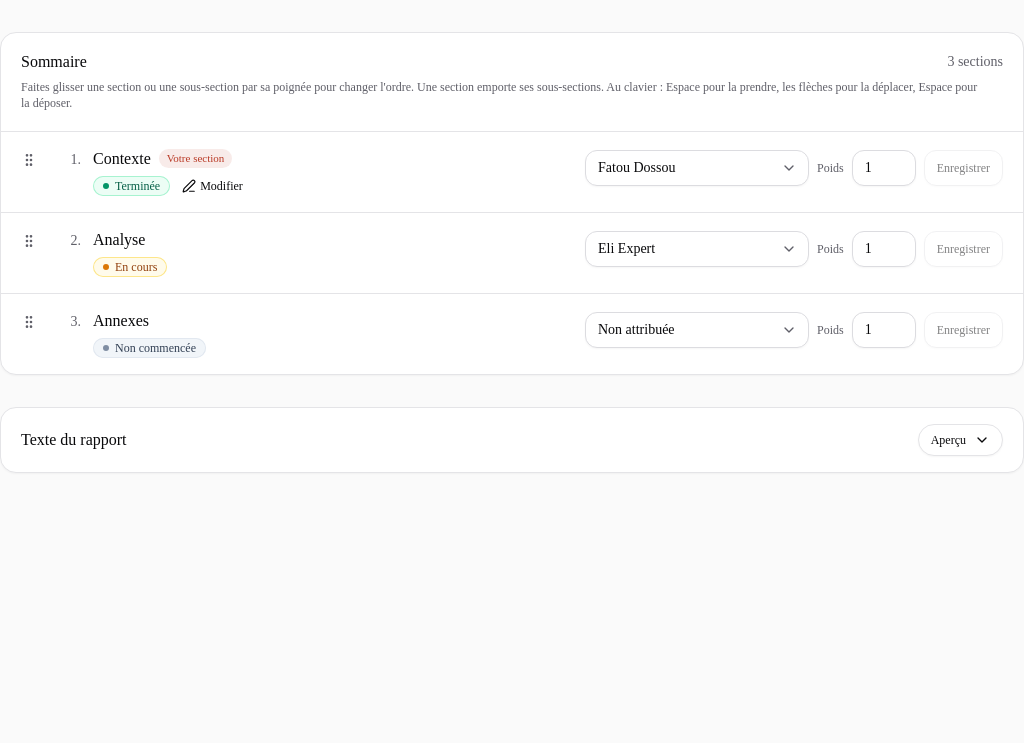
Scenario: MasterReport for a manager › saves the new full order after a keyboard move
Click the button with aria-label "Aperçu du texte du rapport" at (960, 440), box [918,424,1003,456]
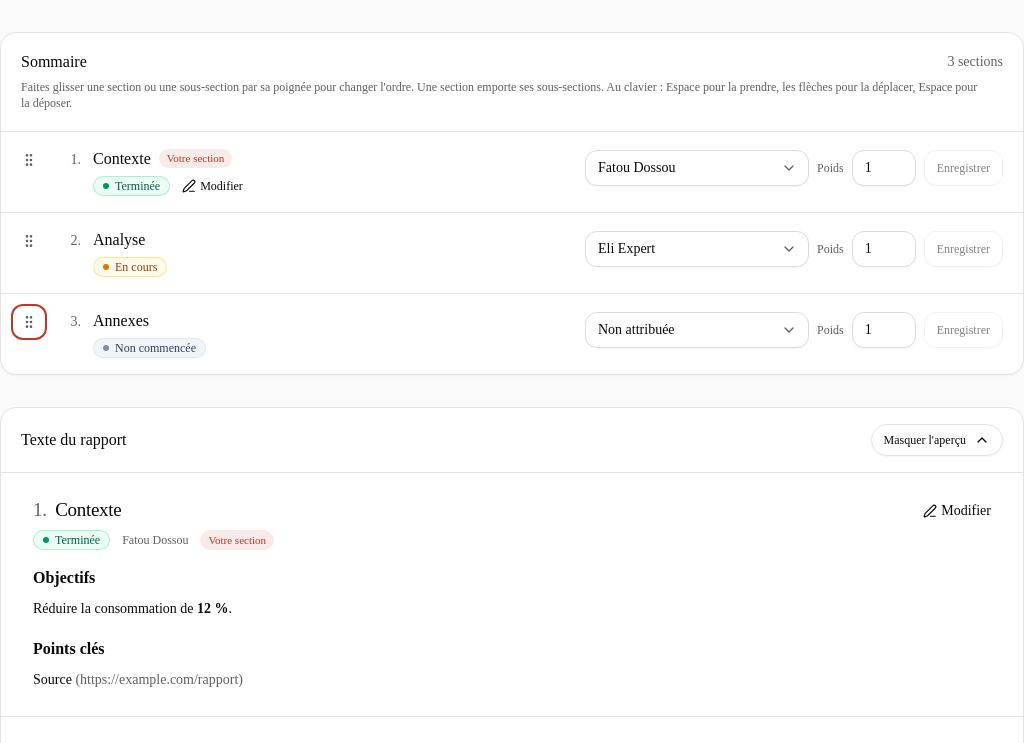
Press Space in the button named "Déplacer la section Annexes", box [13,306,45,338]
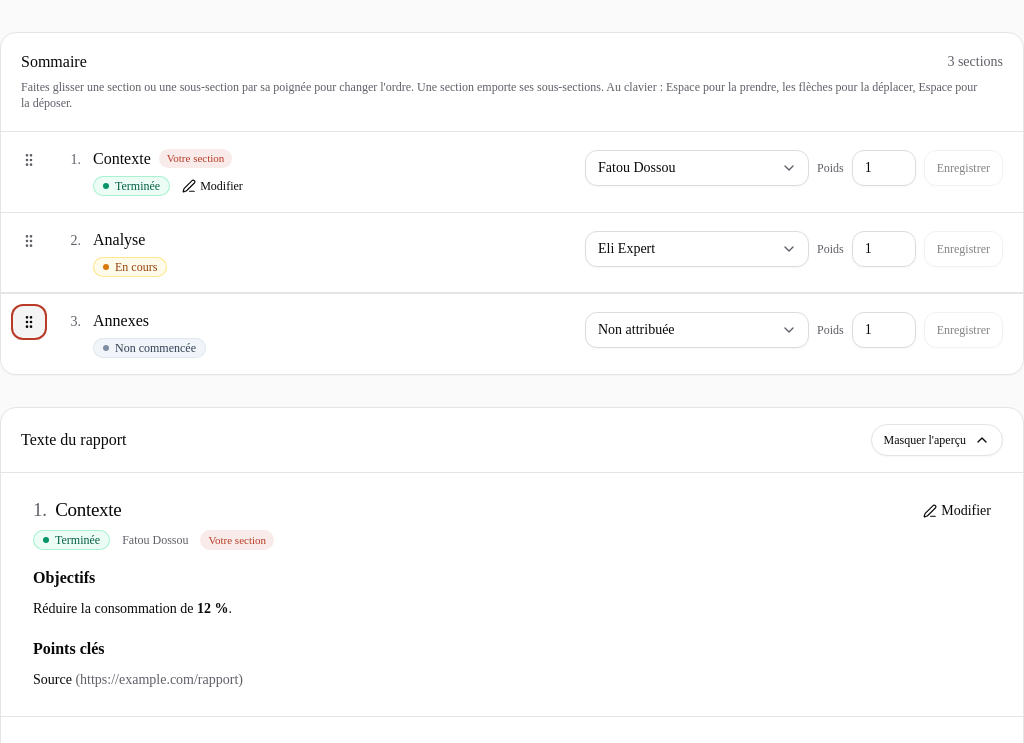
Press ArrowUp
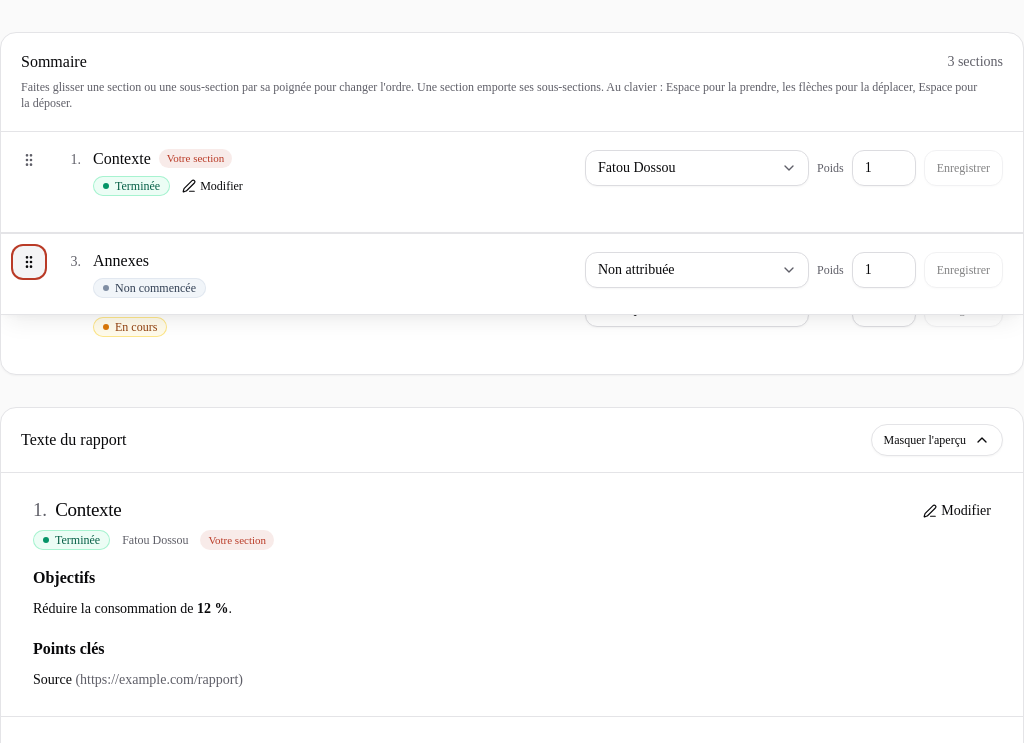
Press ArrowUp
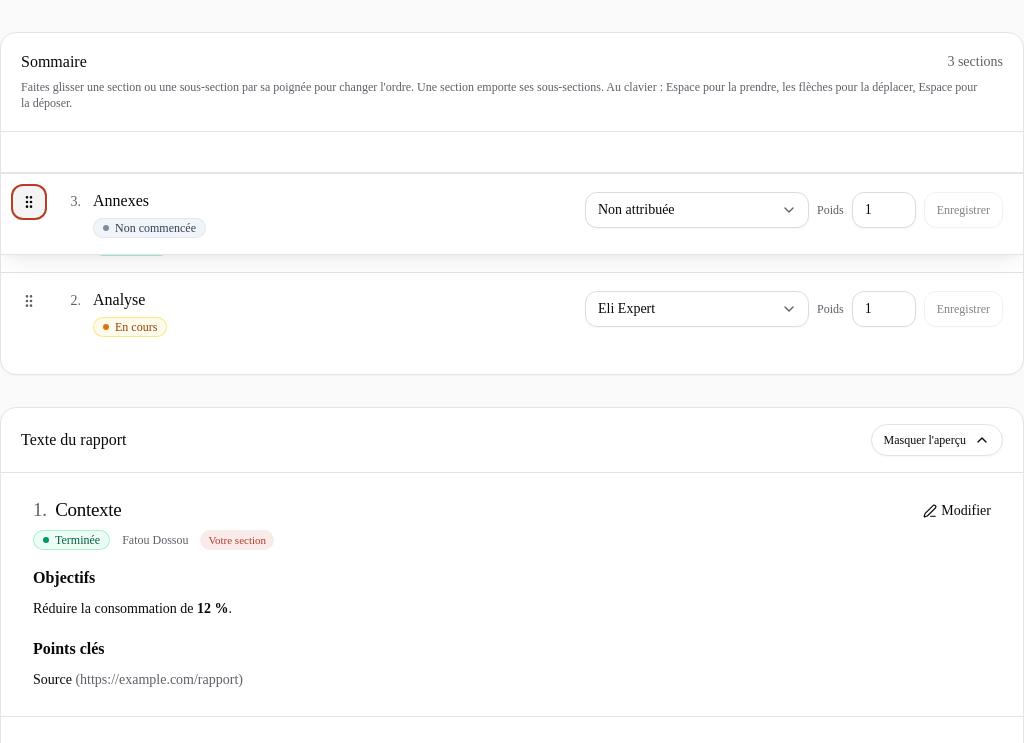
Press Space
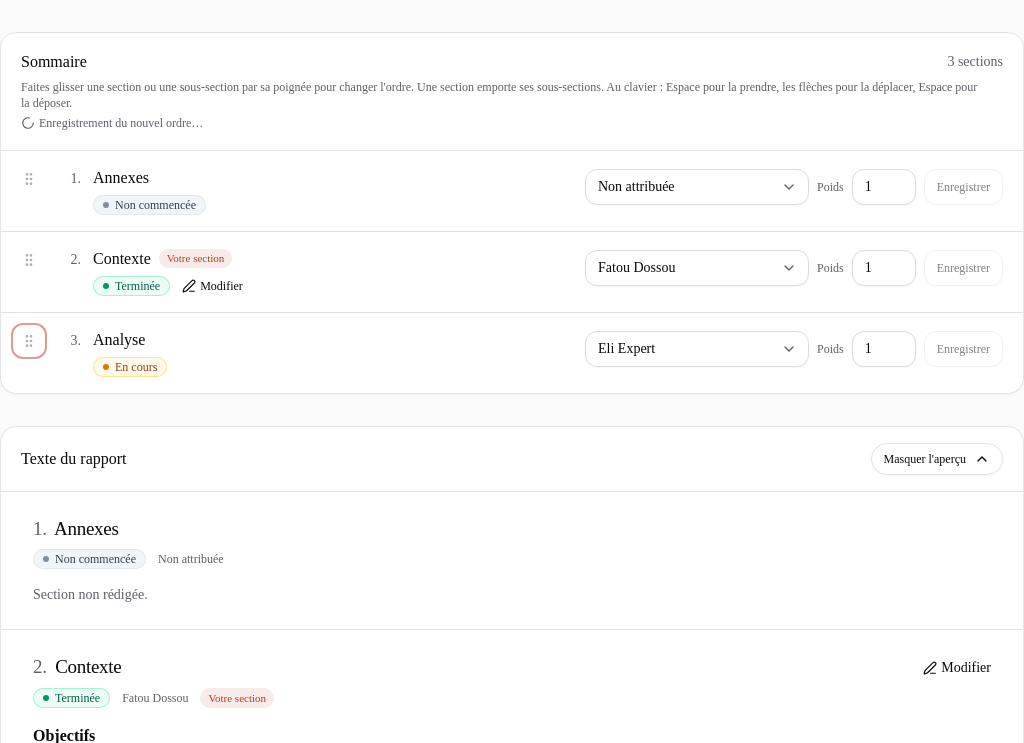
Now the message reads "Enregistrement du nouvel ordre…", box [39,116,203,130]
Press Space in the button named "Déplacer la section Analyse", box [13,325,45,357]
Press ArrowUp
Press Space
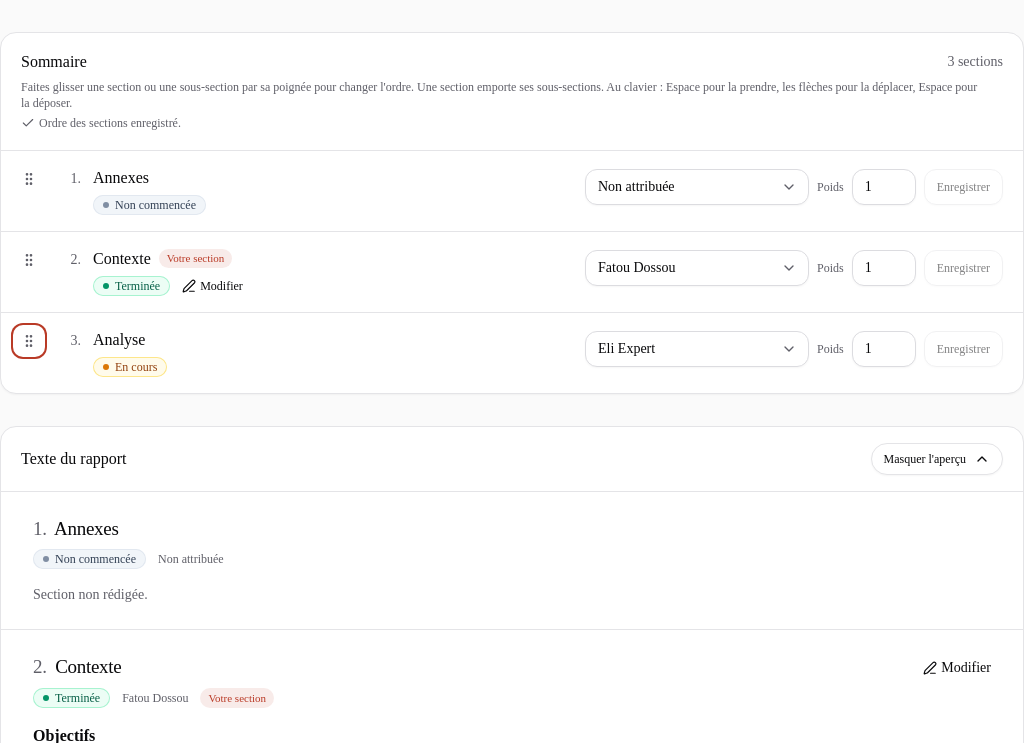
Now the message reads "Ordre des sections enregistré.", box [39,116,181,130]
